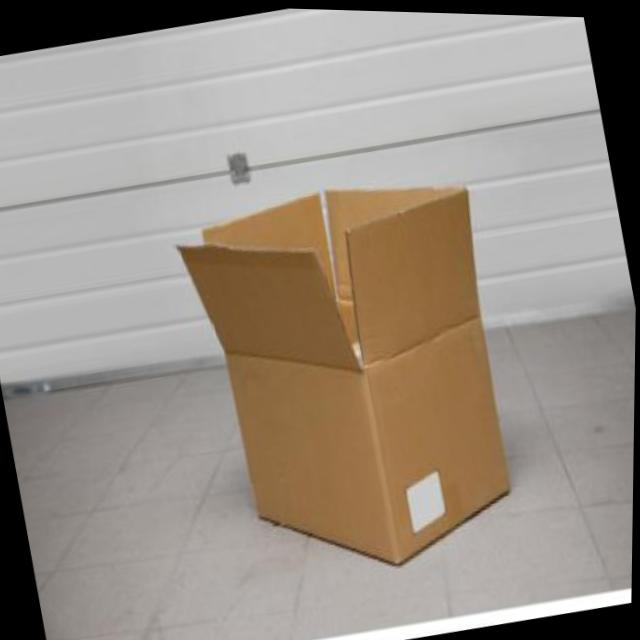box: (164, 154, 539, 604)
